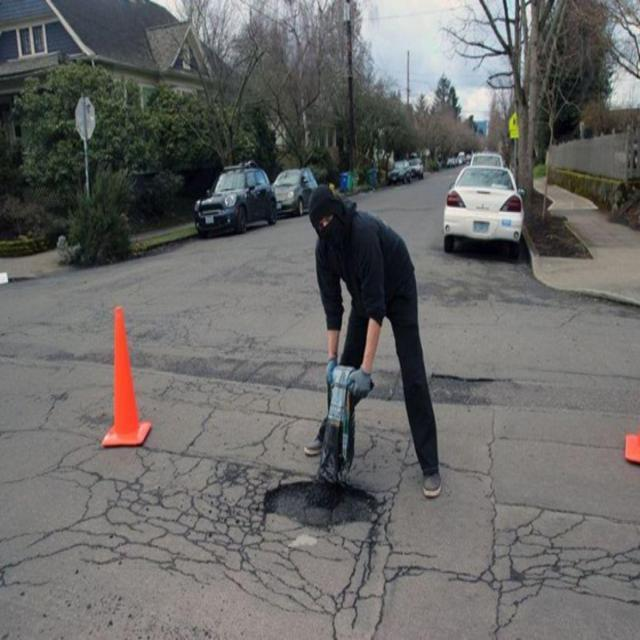Pothole: (264, 481, 378, 530)
